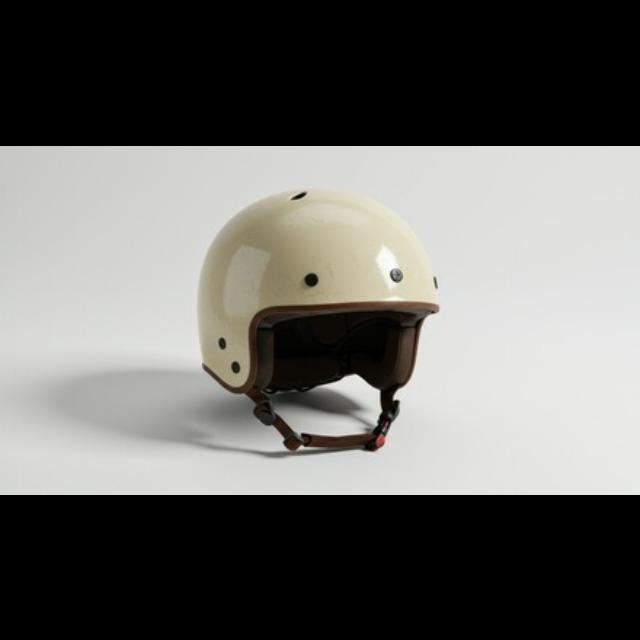motorcycle-helmets: (190, 185, 448, 455)
